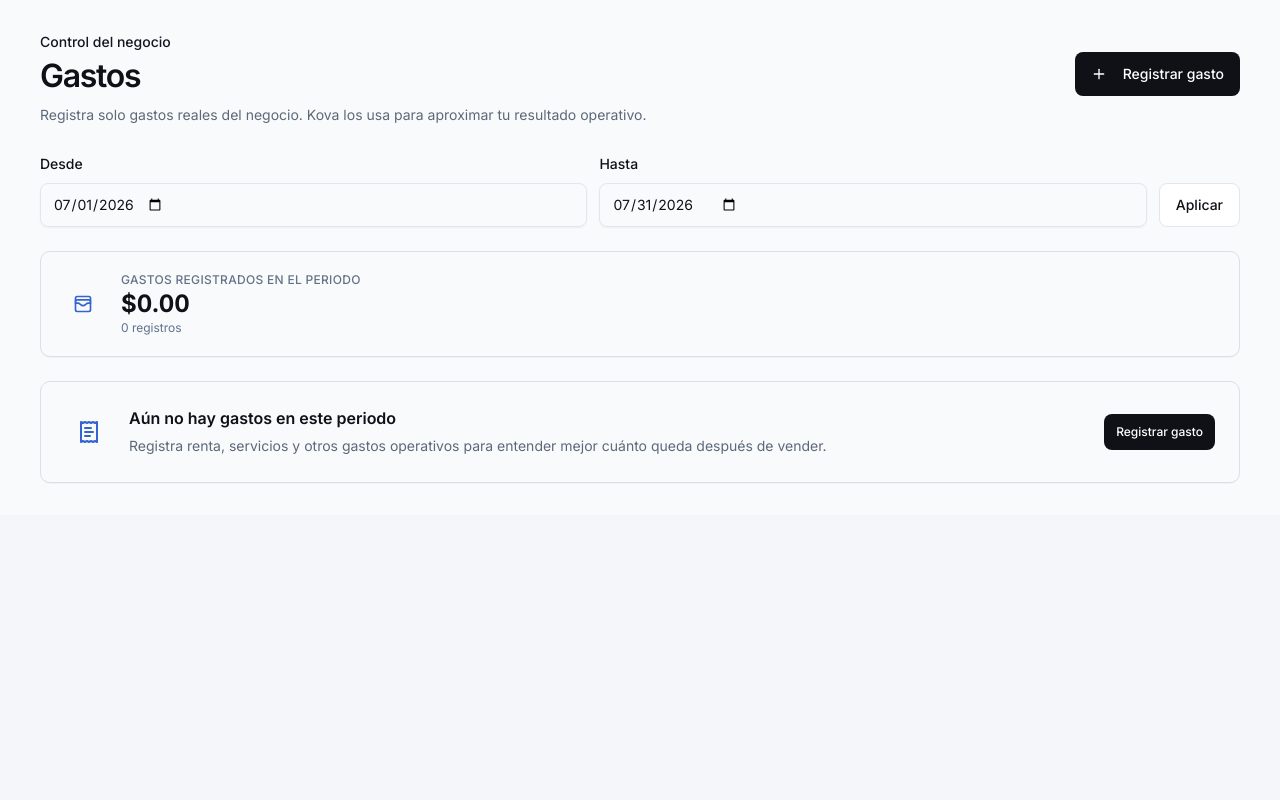
Test case: expense business dates › uses America/Mexico_City for the month filter and new expense date
This screenshot has width=1280, height=800.
Expected: the date field labelled "Desde" holds "2026-07-01", [40,183,587,227]
Expected: the date field labelled "Hasta" holds "2026-07-31", [599,183,1147,227]
Click the 1st button "Registrar gasto". click: [1157, 74]
box: [1075,52,1240,96]
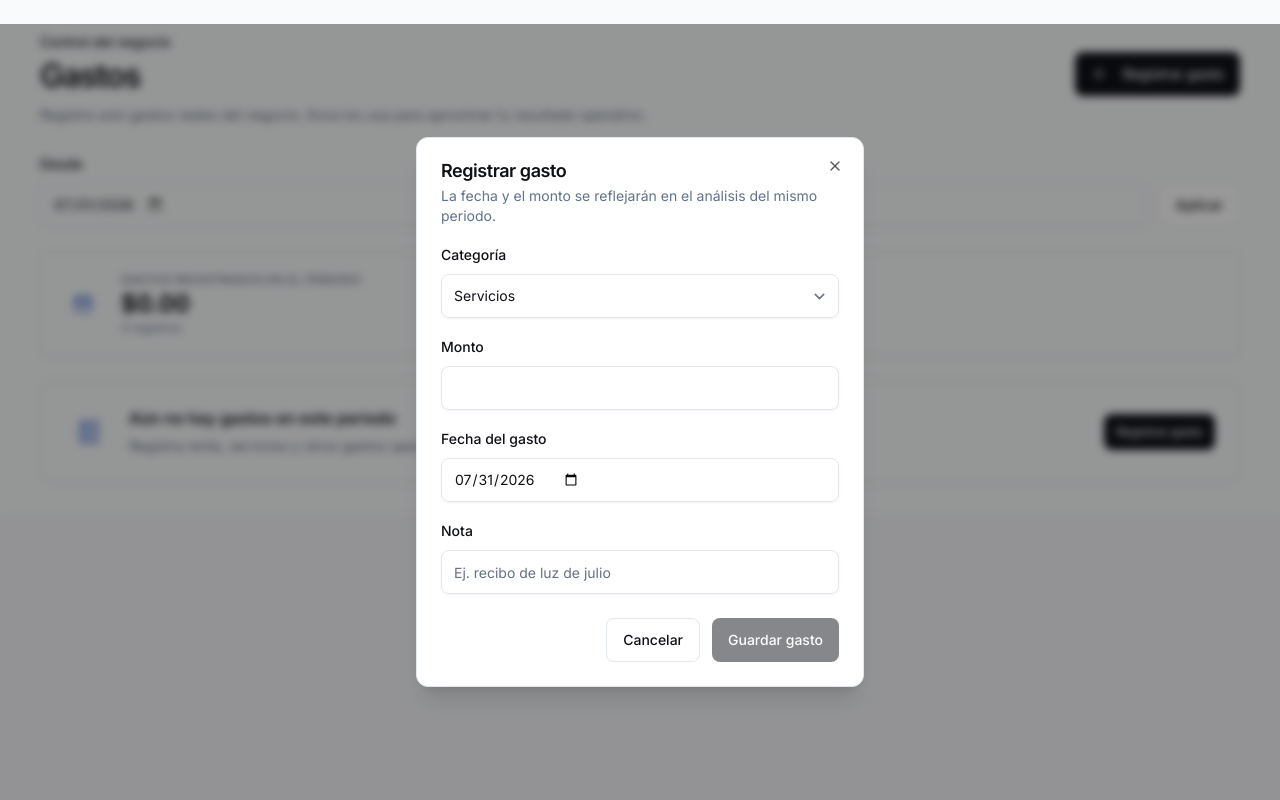
Now the date field labelled "Fecha del gasto" holds "2026-07-31", box [441,458,839,502]
